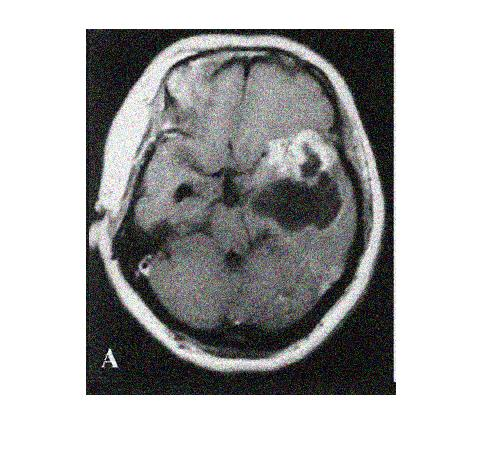Brain_Cancer: (240, 131, 345, 232)
